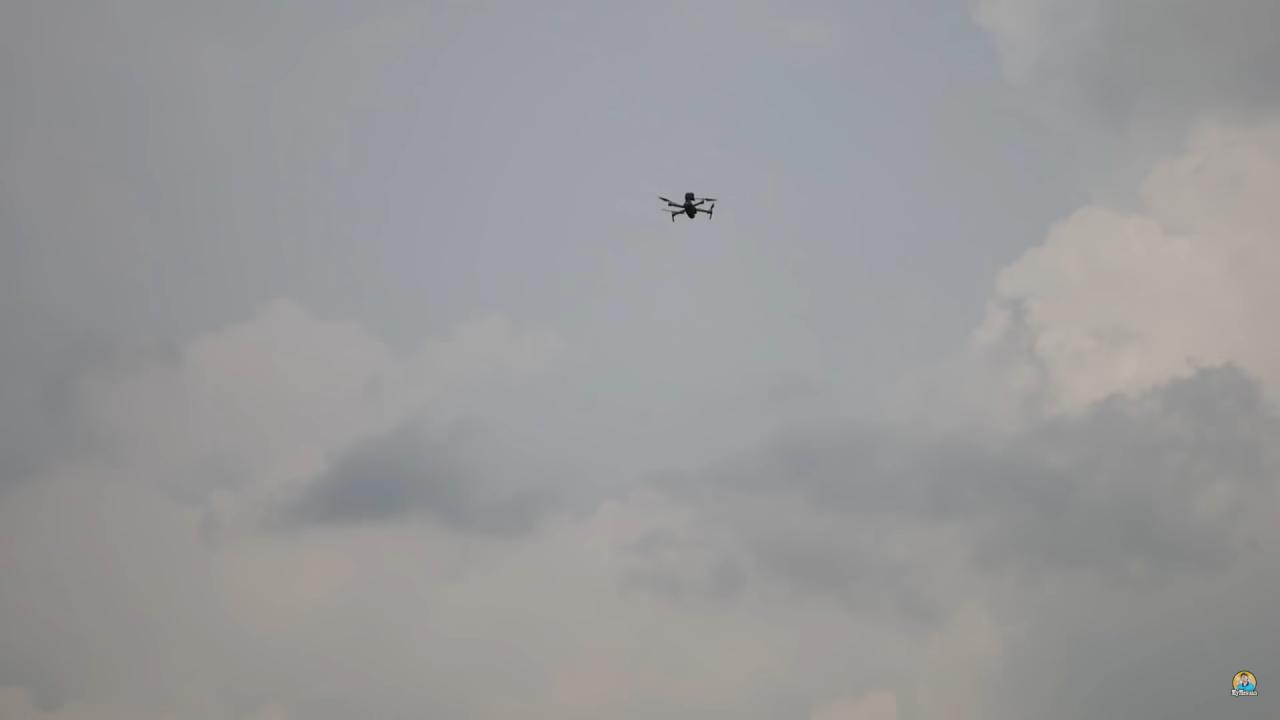Drone: (652, 183, 728, 225)
